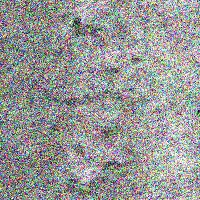rolled-in_scale: (76, 65, 139, 199), (86, 13, 133, 51)
